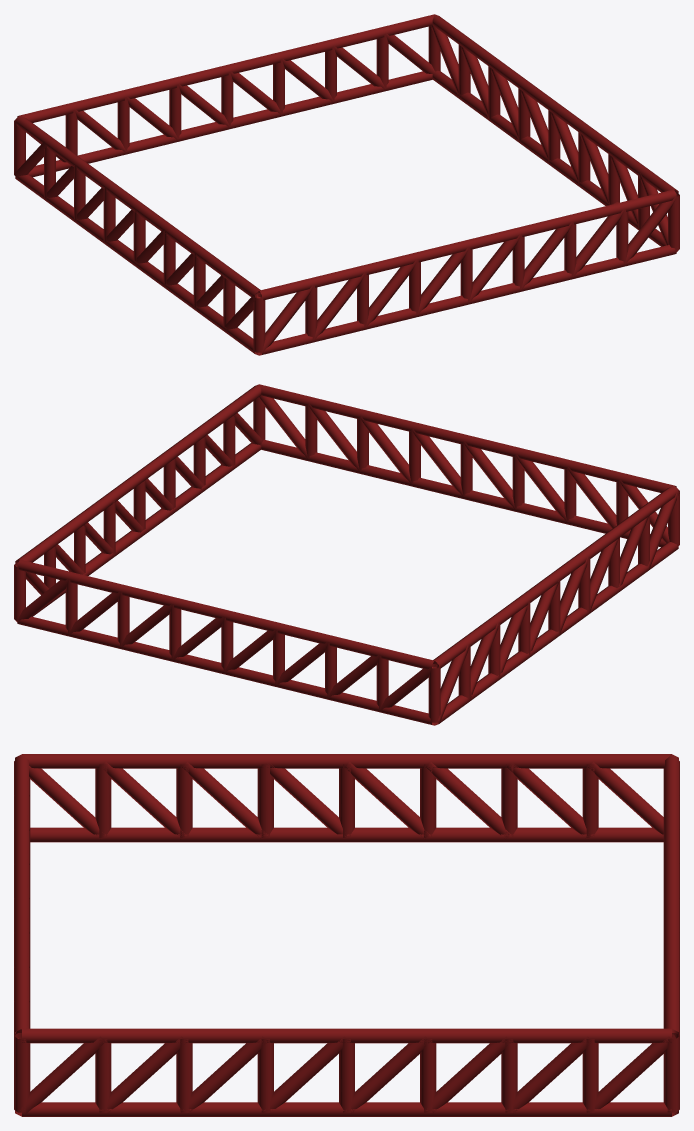
File: andamio24.DAE
The picture shows the model from 3 angles, top to bottom: view 1: azimuth 30°, elevation 25°; view 2: azimuth 150°, elevation 25°; view 3: azimuth 270°, elevation 25°; orthographic projection. The views are drawn at different scales.
Parts seen in each view (by area): view 1: andamio022; view 2: andamio022; view 3: andamio022.
Boxes of the visible parts, x1=… form: andamio022: x1=14, y1=14, x2=679, y2=355; andamio022: x1=14, y1=384, x2=679, y2=725; andamio022: x1=14, y1=754, x2=679, y2=1116.
Bounding box in the file's own units: 24.52 × 3.6 × 24.6.
